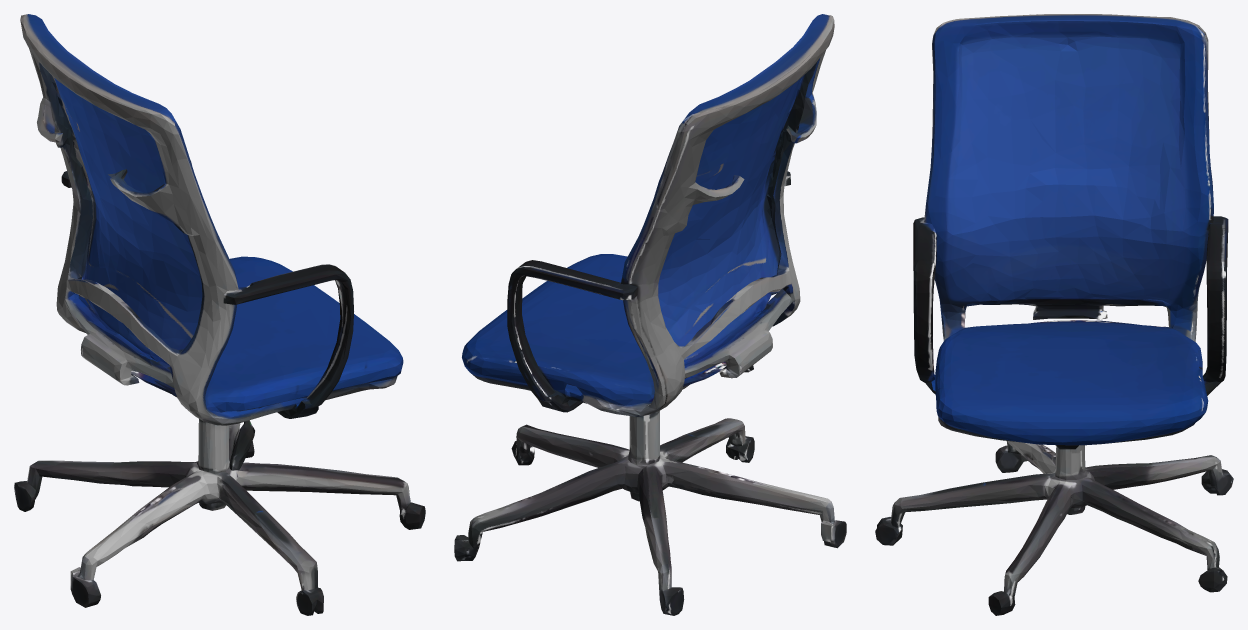
Rendered from office_chair_13.obj.
3 views of the same model, side by side, from view 1: azimuth 30°, elevation 25°; view 2: azimuth 150°, elevation 25°; view 3: azimuth 270°, elevation 25° (orthographic). The views are drawn at different scales.
Size of the model in its own units: 0.7778 by 1.1 by 0.7686.
1 material, 1 textured.
